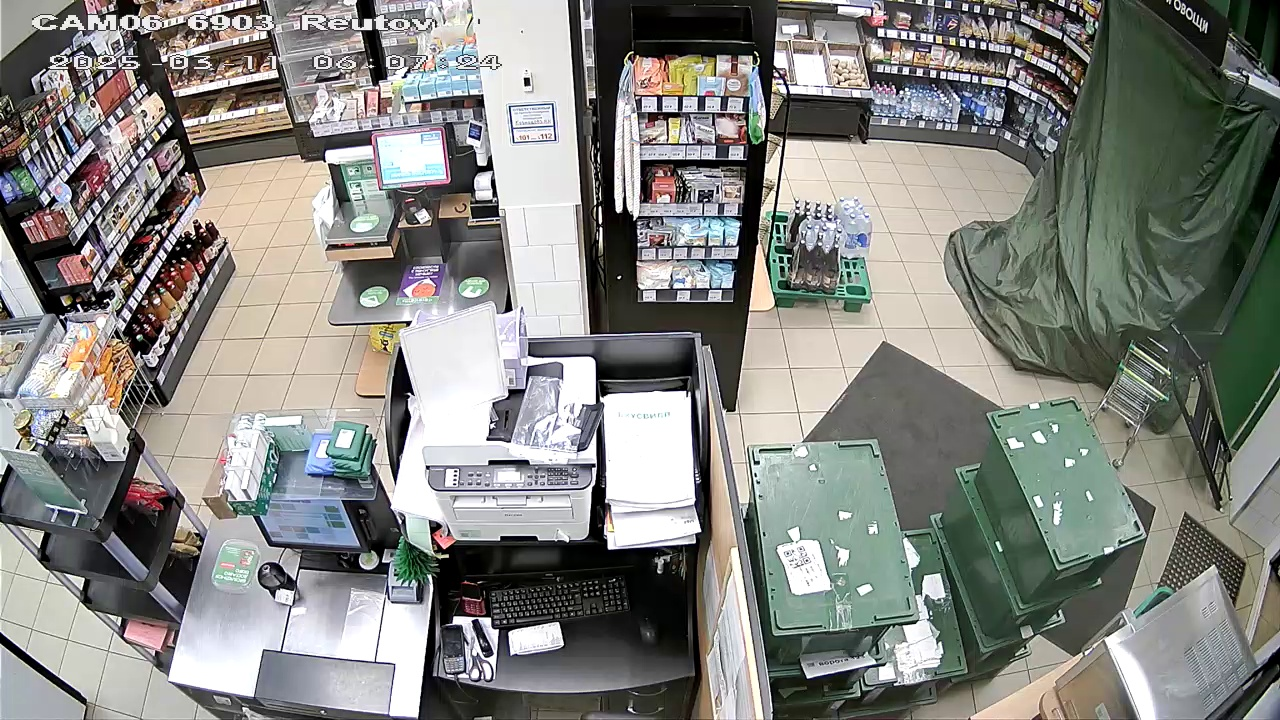dome: (946, 9, 1256, 403)
